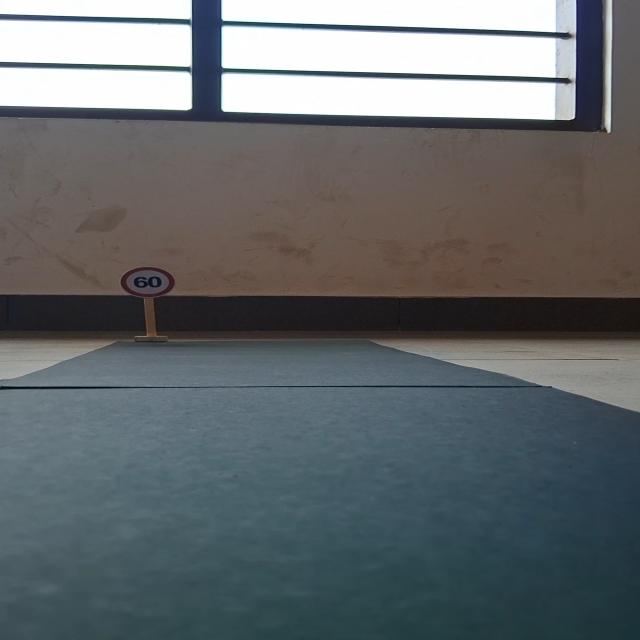Speed60: (118, 267, 176, 296)
